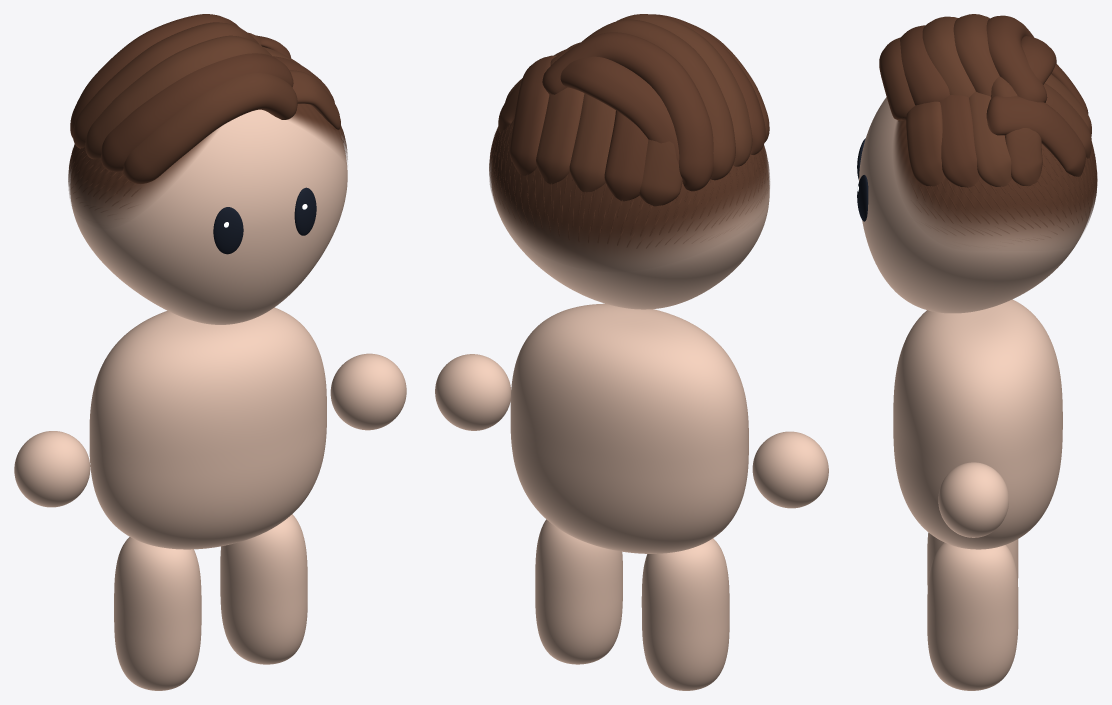
Rendered from Taper-skin0.glb.
3 renders of one model, left to right at view 1: azimuth 30°, elevation 25°; view 2: azimuth 150°, elevation 25°; view 3: azimuth 270°, elevation 25°, orthographic. The views are drawn at different scales.
Parts seen in each view (by area): view 1: Skin / compact torso, Skin / soft oval head, Skin / leg -1, Skin / leg 1, Hair / Taper top 0, Hair / Taper short sides, Hair / Taper top 1, Hair / Taper top 2, Skin / hand 1, Skin / hand -1, Hair / Taper top 3, Hair / Taper top 4 (+4 smaller); view 2: Skin / compact torso, Hair / Taper short sides, Skin / soft oval head, Skin / leg -1, Skin / leg 1, Hair / Taper top 4, Hair / Taper rear bridge, Skin / hand -1, Skin / hand 1, Hair / Taper top 3, Hair / Taper fine direction, Hair / Taper top 2 (+6 smaller); view 3: Skin / compact torso, Skin / soft oval head, Hair / Taper short sides, Skin / leg 1, Skin / hand 1, Hair / Taper crown 4, Hair / Taper top 4, Hair / Taper short sweep 1, Hair / Taper short sweep 0, Hair / Taper top 3, Hair / Taper short sweep 2, Hair / Taper top 1 (+10 smaller).
Boxes of the visible parts, <box> form: Skin / compact torso: <box>89,307,326,549</box>; Skin / soft oval head: <box>70,109,347,324</box>; Skin / leg -1: <box>114,537,201,690</box>; Skin / leg 1: <box>220,514,307,664</box>; Hair / Taper top 0: <box>123,73,297,184</box>; Hair / Taper short sides: <box>68,103,347,221</box>; Hair / Taper top 1: <box>101,53,293,171</box>; Hair / Taper top 2: <box>85,35,272,159</box>; Skin / hand 1: <box>330,353,406,430</box>; Skin / hand -1: <box>14,431,90,507</box>; Hair / Taper top 3: <box>73,22,259,148</box>; Hair / Taper top 4: <box>70,14,239,138</box>; Skin / compact torso: <box>510,303,748,553</box>; Hair / Taper short sides: <box>489,119,769,265</box>; Skin / soft oval head: <box>491,170,769,309</box>; Skin / leg -1: <box>641,538,729,690</box>; Skin / leg 1: <box>535,519,622,664</box>; Hair / Taper top 4: <box>542,32,713,191</box>; Hair / Taper rear bridge: <box>560,56,679,164</box>; Skin / hand -1: <box>752,431,828,508</box>; Skin / hand 1: <box>435,354,511,430</box>; Hair / Taper top 3: <box>582,19,735,180</box>; Hair / Taper fine direction: <box>489,124,769,248</box>; Hair / Taper top 2: <box>616,14,752,166</box>; Skin / compact torso: <box>893,299,1062,549</box>; Skin / soft oval head: <box>859,97,1091,313</box>; Hair / Taper short sides: <box>894,120,1097,243</box>; Skin / leg 1: <box>927,542,1018,690</box>; Skin / hand 1: <box>938,462,1008,537</box>; Hair / Taper crown 4: <box>986,96,1085,176</box>; Hair / Taper top 4: <box>986,15,1047,102</box>; Hair / Taper short sweep 1: <box>940,95,979,187</box>; Hair / Taper short sweep 0: <box>906,101,945,186</box>; Hair / Taper top 3: <box>953,14,999,96</box>; Hair / Taper short sweep 2: <box>969,91,1011,186</box>; Hair / Taper top 1: <box>900,25,949,105</box>.
Bounding box in the file's own units: 1.49 × 2.4 × 0.8289.
